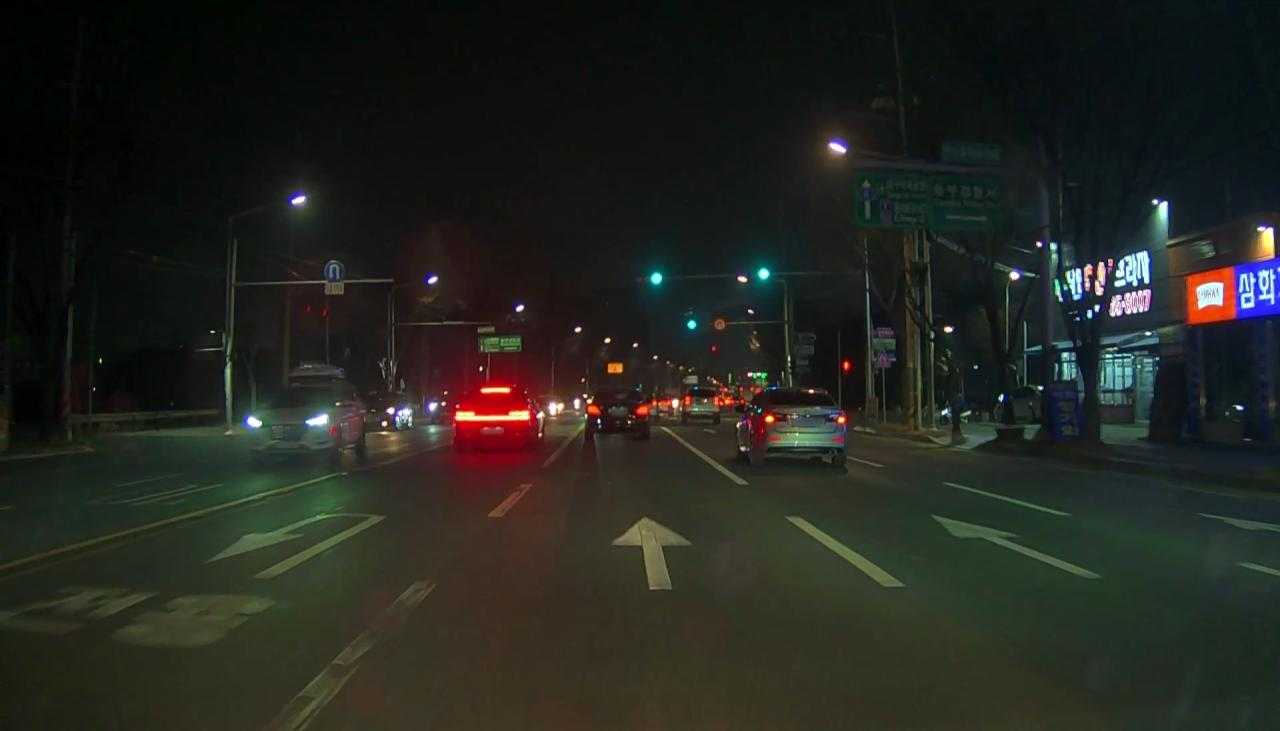Green Light: (649, 269, 665, 287), (756, 266, 772, 283), (684, 319, 698, 333)
